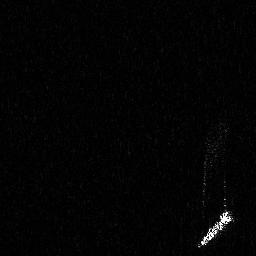ship: (196, 206, 238, 250)
